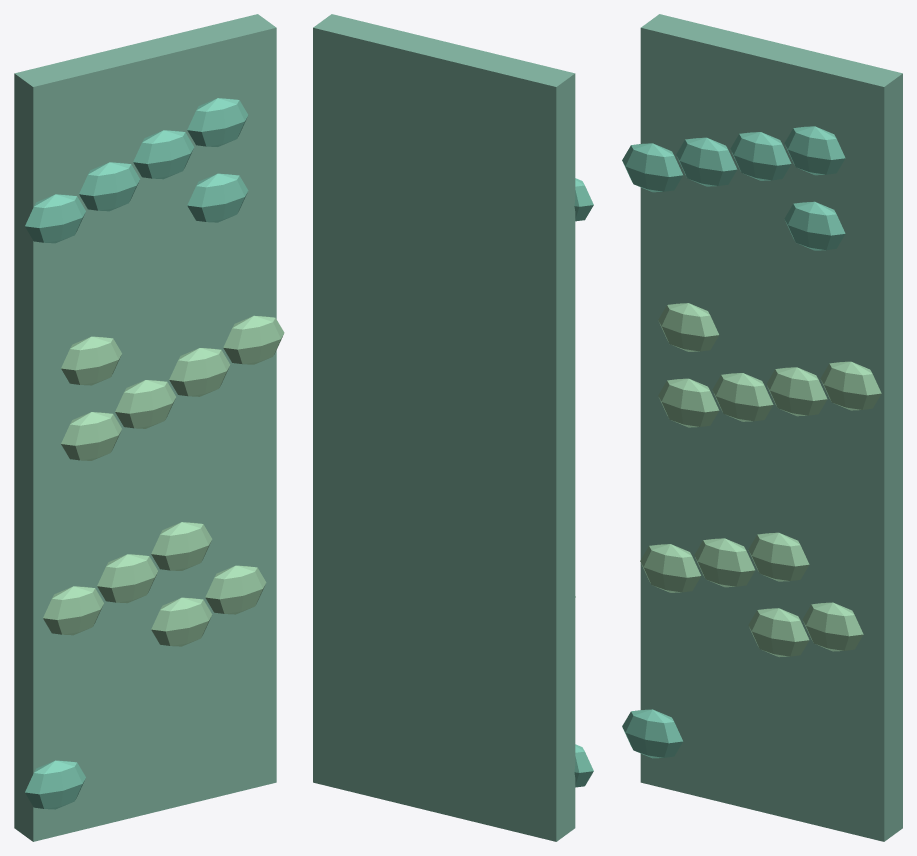
File: jardin_vertical.glb
The picture shows the model from 3 angles, left to right: view 1: azimuth 30°, elevation 25°; view 2: azimuth 150°, elevation 25°; view 3: azimuth 330°, elevation 25°; orthographic projection.
Parts seen in each view (by area): view 1: jardin_vertical; view 2: jardin_vertical; view 3: jardin_vertical.
Boxes of the visible parts, <box> form: jardin_vertical: <box>14,14,284,841</box>; jardin_vertical: <box>313,14,593,841</box>; jardin_vertical: <box>622,14,902,841</box>.
Bounding box in the file's own units: 1.44 × 4 × 0.305.
